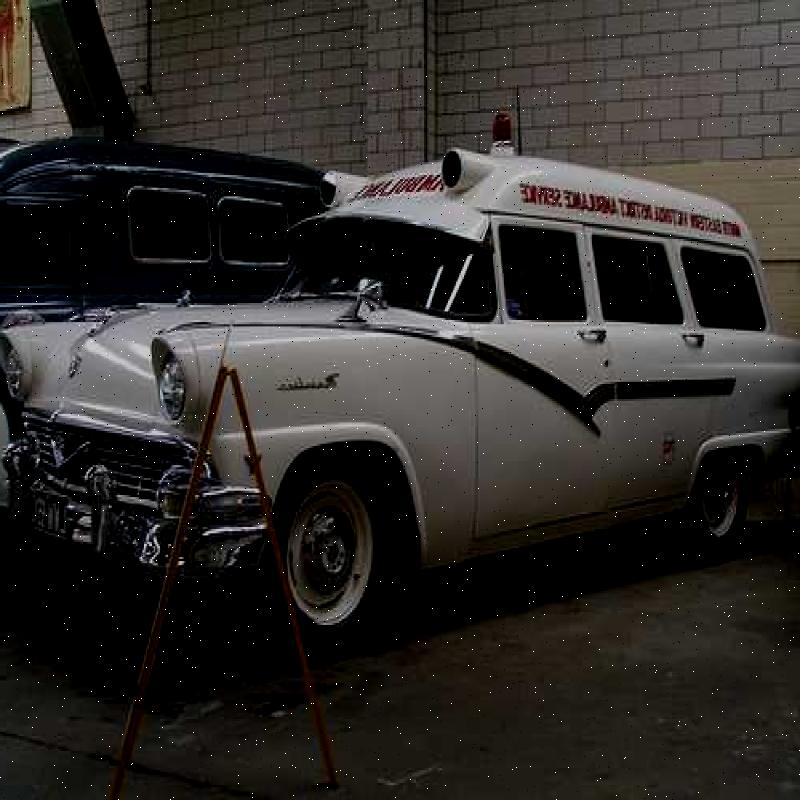AmbulanceSiren: (488, 110, 517, 152)
